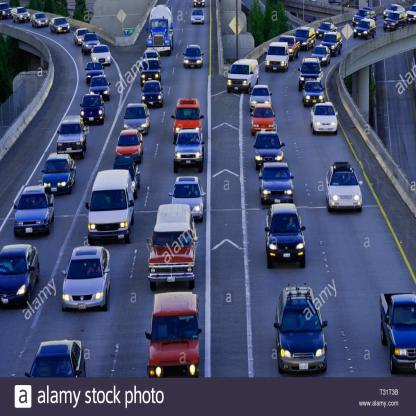car: (276, 288, 329, 376), (147, 295, 200, 379), (153, 204, 201, 290), (88, 173, 135, 245), (60, 247, 111, 313), (380, 292, 416, 376), (266, 206, 309, 270), (26, 339, 92, 377), (15, 186, 55, 242), (4, 246, 37, 311), (328, 162, 365, 217), (171, 131, 206, 172), (262, 164, 296, 205), (46, 153, 78, 196), (58, 114, 86, 160), (228, 55, 260, 95), (176, 178, 206, 216), (256, 133, 290, 165), (114, 134, 148, 164), (174, 98, 203, 133), (311, 103, 339, 138), (81, 96, 105, 128), (264, 43, 289, 73), (250, 103, 275, 132), (125, 105, 153, 128), (302, 81, 327, 106), (302, 55, 323, 82), (143, 83, 165, 108), (355, 18, 378, 40), (385, 14, 410, 34), (184, 47, 206, 68), (93, 46, 112, 68), (140, 60, 162, 79), (297, 27, 317, 46), (91, 79, 112, 97), (52, 18, 71, 33), (88, 64, 104, 79), (83, 35, 99, 46), (192, 11, 203, 25)
truck: (148, 8, 175, 56)
